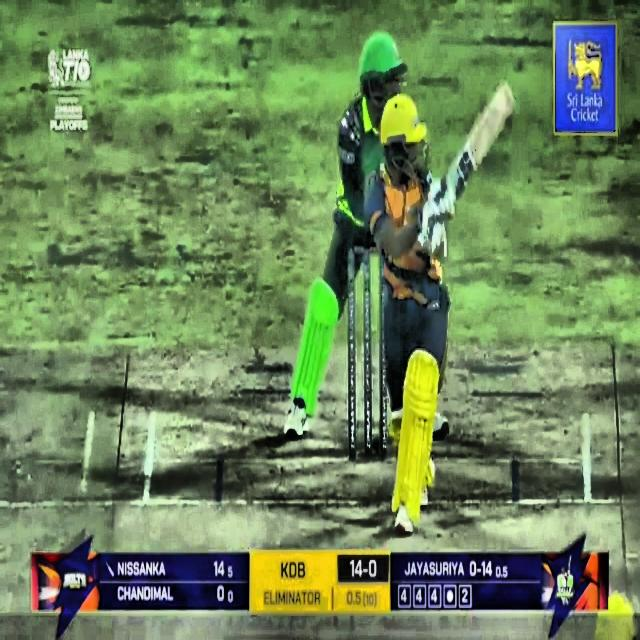Left-stump: (348, 247, 354, 458)
Middle-stump: (362, 243, 372, 456)
Right-stump: (380, 314, 388, 462)
stumps: (348, 241, 388, 459)
